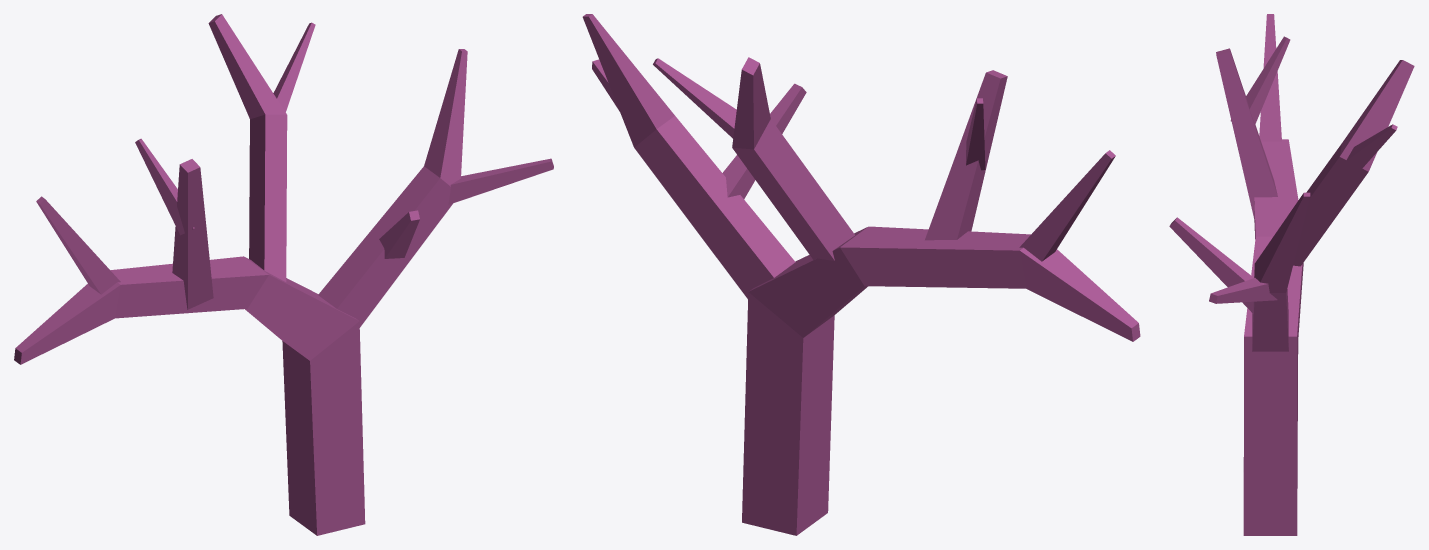
File: Coral2_tex.fbx
The picture shows the model from 3 angles, left to right: view 1: azimuth 30°, elevation 25°; view 2: azimuth 150°, elevation 25°; view 3: azimuth 270°, elevation 25°; orthographic projection. The views are drawn at different scales.
Visible parts, largest first — view 1: Coral2_tex; view 2: Coral2_tex; view 3: Coral2_tex.
Part boxes in pixels (x1,y1,x2,y2): Coral2_tex: (14, 14, 553, 535); Coral2_tex: (582, 14, 1140, 535); Coral2_tex: (1169, 14, 1414, 535).
Bounding box in the file's own units: 0.8449 × 0.7382 × 0.3667.
